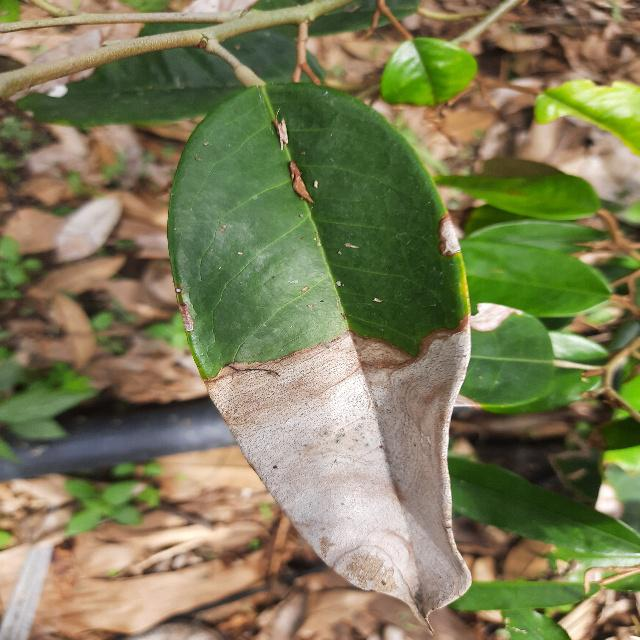Leaf Blight: (155, 61, 482, 623)
